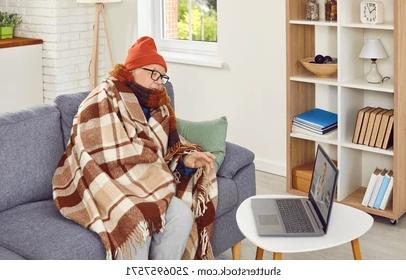blanket: (52, 74, 218, 260)
trousers: (115, 194, 195, 261)
